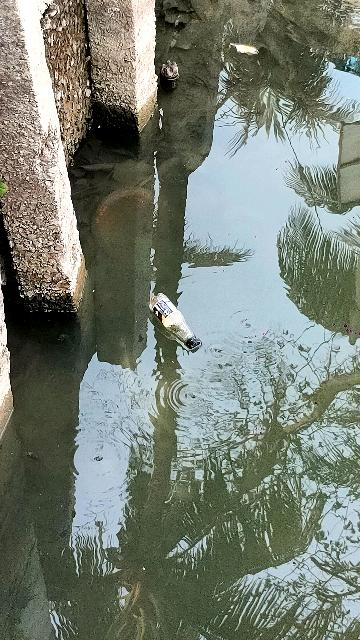bottle: (136, 286, 212, 384)
